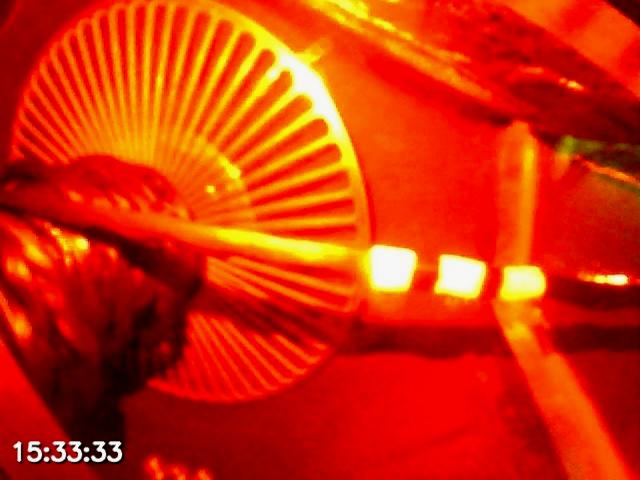white-dots: (363, 244, 546, 303)
